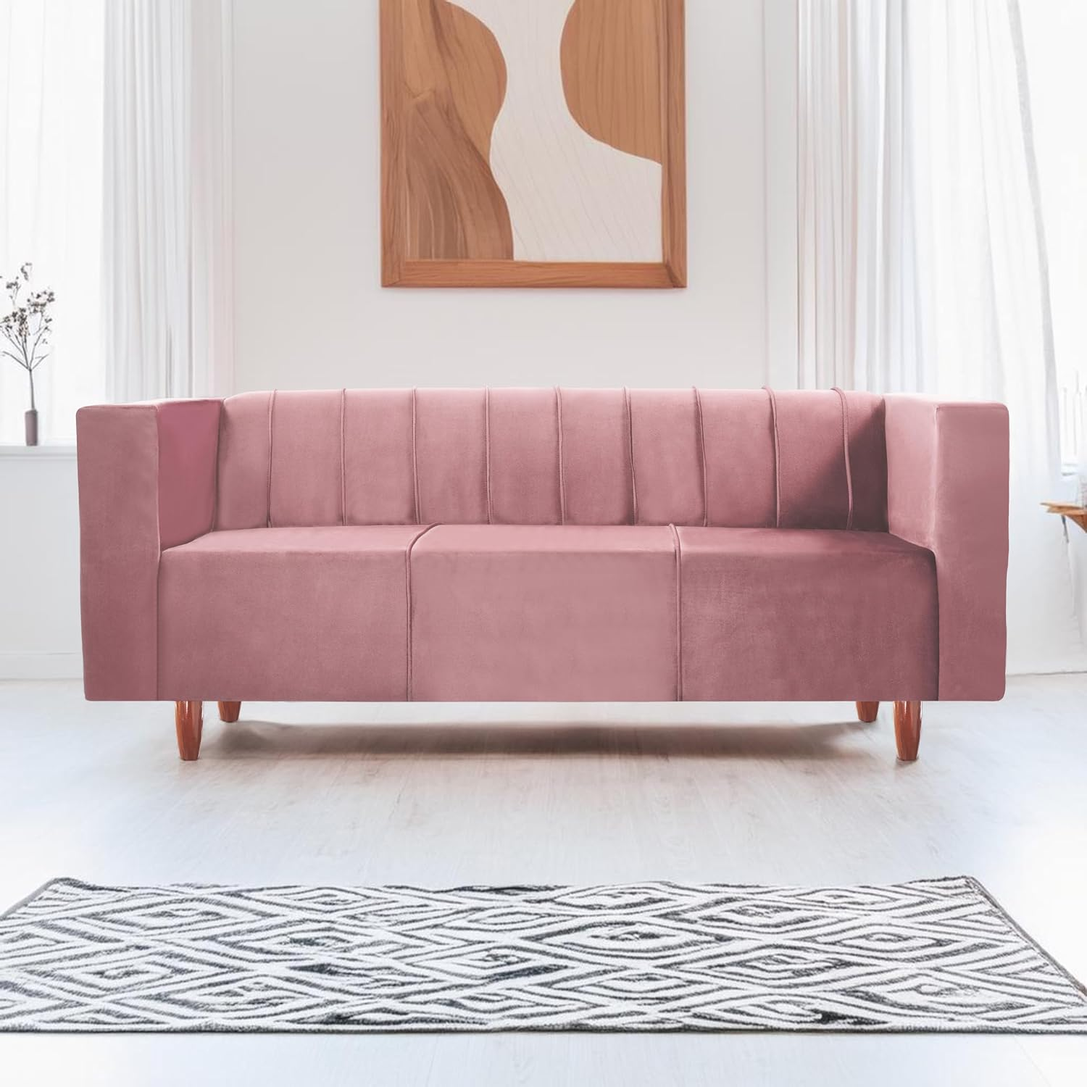3seatersofa: (78, 388, 1008, 760)
backrest: (215, 388, 886, 530)
leftarmrest: (886, 396, 1008, 699)
leg: (894, 701, 921, 762), (175, 700, 202, 760), (856, 701, 878, 722), (219, 701, 241, 722)
rightarmrest: (77, 401, 219, 699)
seat: (158, 525, 938, 701)
